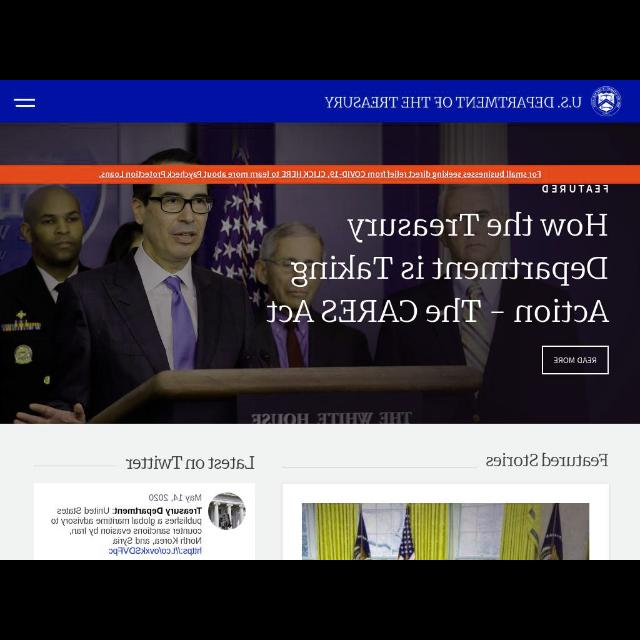backgroundimage: (1, 123, 639, 423)
icon: (12, 98, 36, 108)
image: (302, 503, 590, 559), (208, 492, 246, 530), (591, 86, 621, 116)
text: (266, 212, 610, 324), (51, 506, 203, 556), (325, 95, 583, 109), (99, 171, 542, 179), (487, 452, 608, 468), (126, 456, 254, 470), (542, 184, 608, 193), (148, 494, 202, 502), (553, 358, 597, 364)
textbutton: (542, 346, 608, 374)
toolbar: (1, 80, 639, 122)
